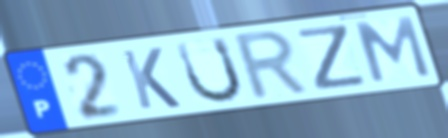2: (60, 52, 126, 123)
K: (118, 45, 184, 112)
M: (352, 14, 435, 85)
R: (231, 27, 314, 104)
U: (173, 35, 246, 107)
Z: (294, 22, 370, 93)
